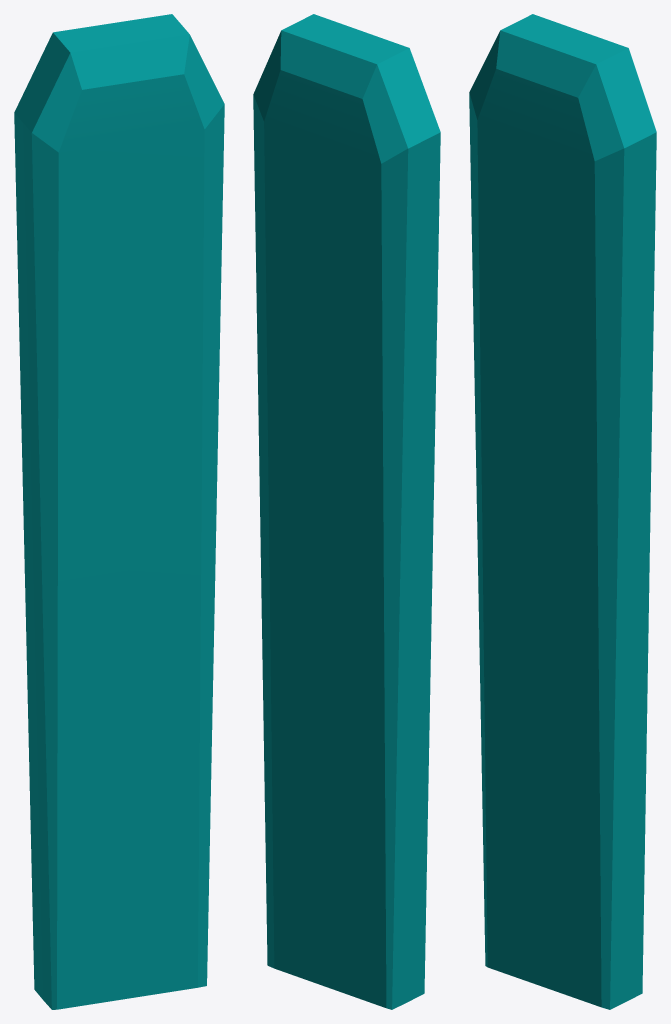
Rendered from Big_Crystal_1_LOD.fbx.
The picture shows the model from 3 angles, left to right: view 1: azimuth 30°, elevation 25°; view 2: azimuth 150°, elevation 25°; view 3: azimuth 330°, elevation 25°; orthographic projection.
Parts seen in each view (by area): view 1: pCube77; view 2: pCube77; view 3: pCube77.
Boxes of the visible parts, x1=… form: pCube77: x1=14, y1=14, x2=224, y2=1009; pCube77: x1=253, y1=14, x2=440, y2=1009; pCube77: x1=469, y1=14, x2=656, y2=1009.
Size of the model in its own units: 2.54 by 12.67 by 1.28.
